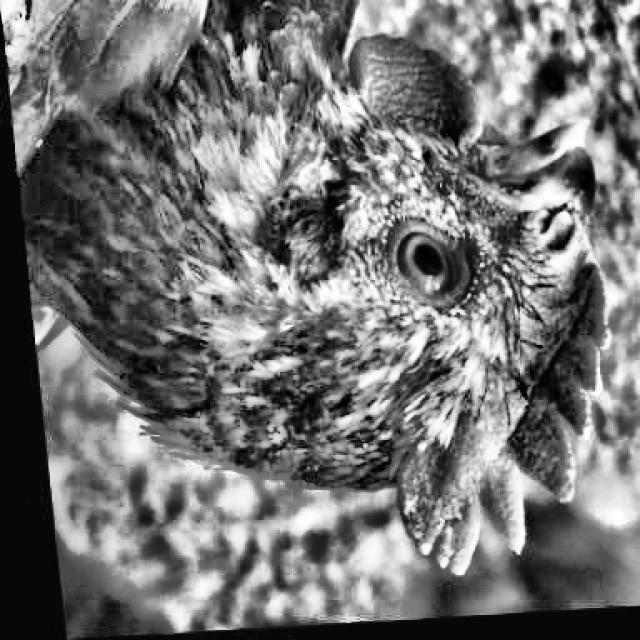Healthy: (372, 225, 490, 317)
